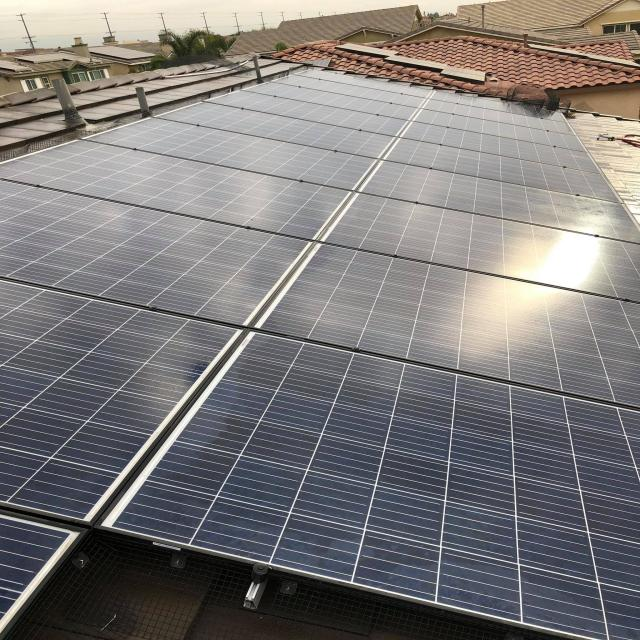clean-solar-panel: (0, 67, 640, 640)
